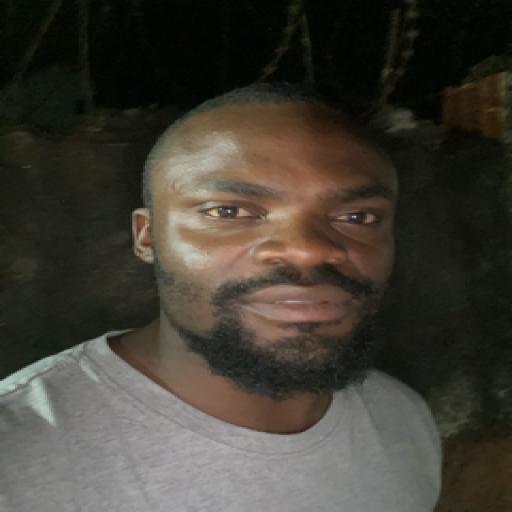JEANLUC: (113, 72, 421, 405)
